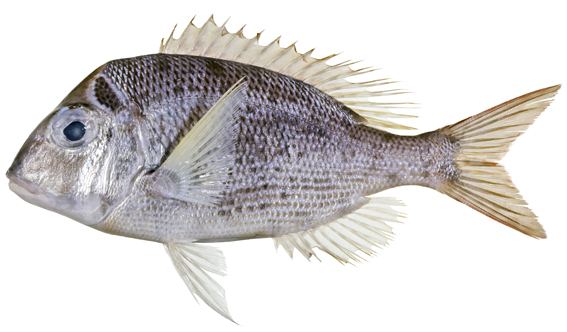fish: (6, 12, 562, 326)
